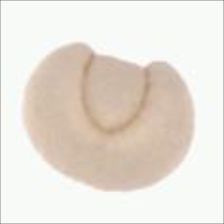L5: (79, 51, 153, 137)
L6: (20, 40, 196, 193)
